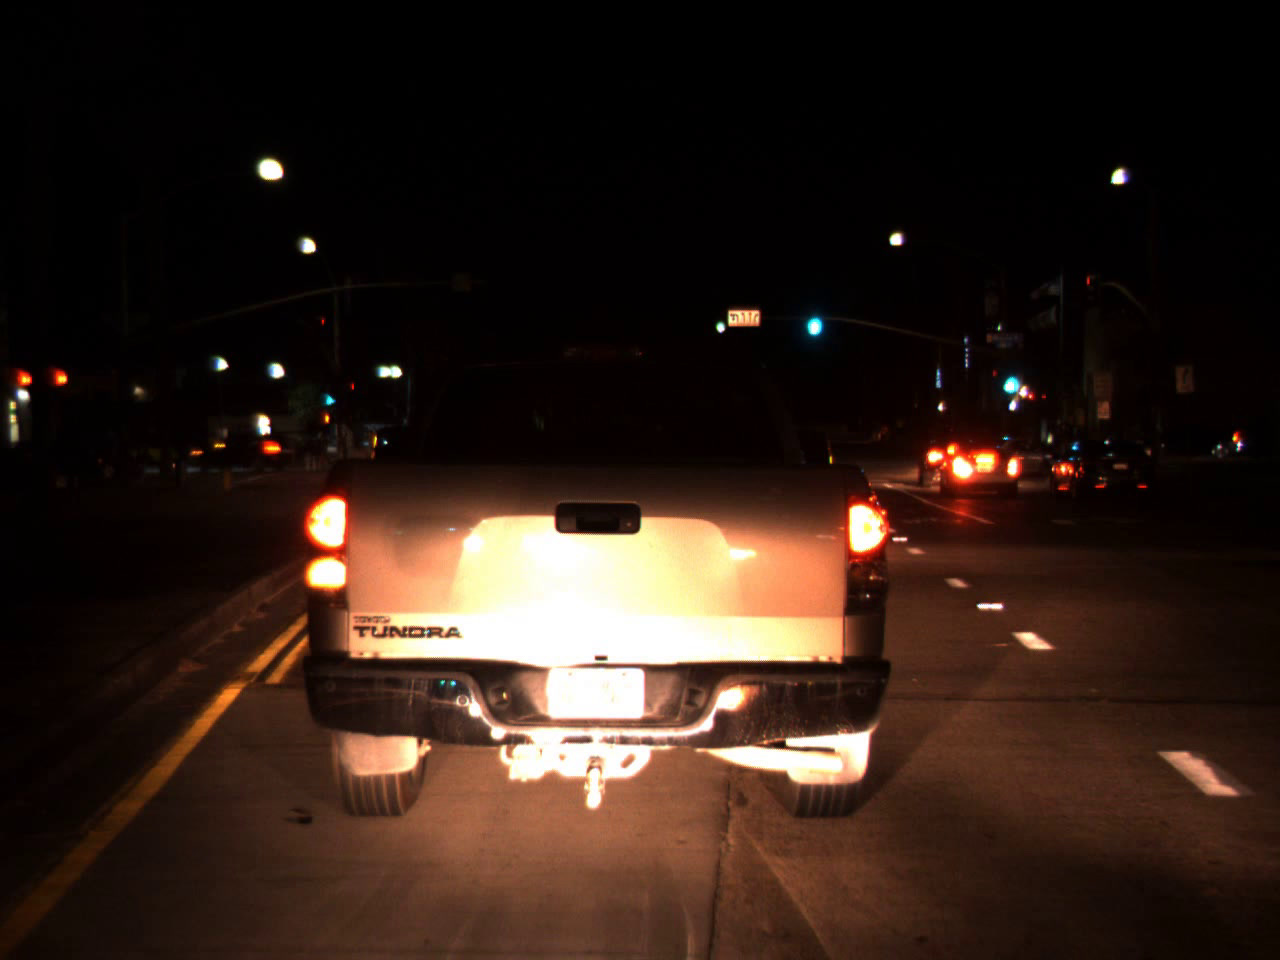go: (997, 353, 1022, 401), (801, 295, 824, 343), (322, 383, 338, 410), (711, 311, 727, 335)
